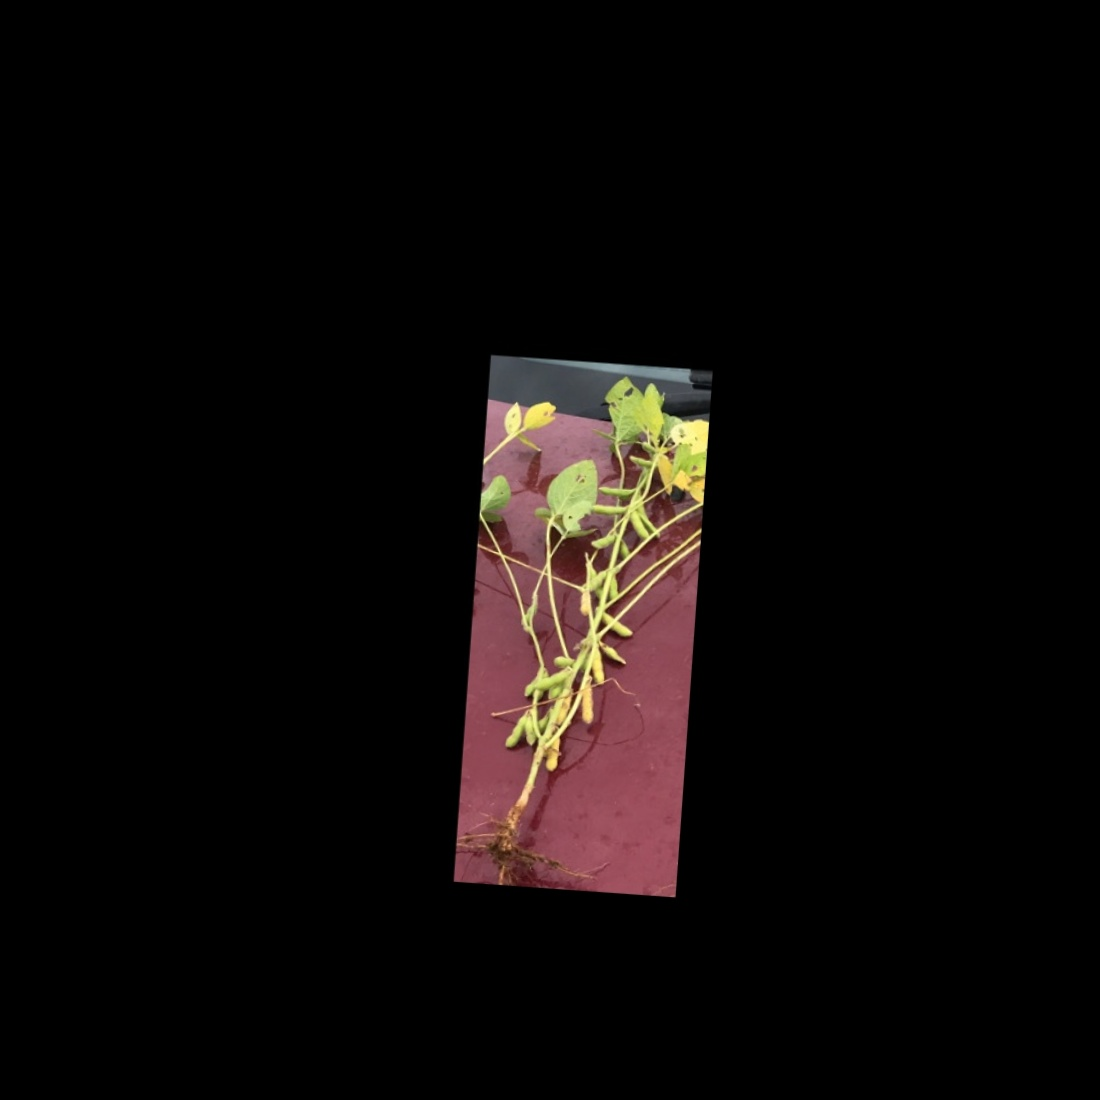pod: (498, 709, 535, 753), (577, 673, 602, 726), (597, 610, 636, 638), (580, 564, 610, 598), (586, 527, 622, 552), (584, 500, 631, 517), (621, 450, 656, 471), (594, 484, 638, 498)
soy: (457, 370, 704, 889)
